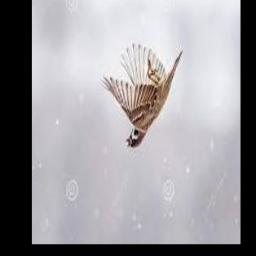Sparrow: (100, 44, 183, 149)
